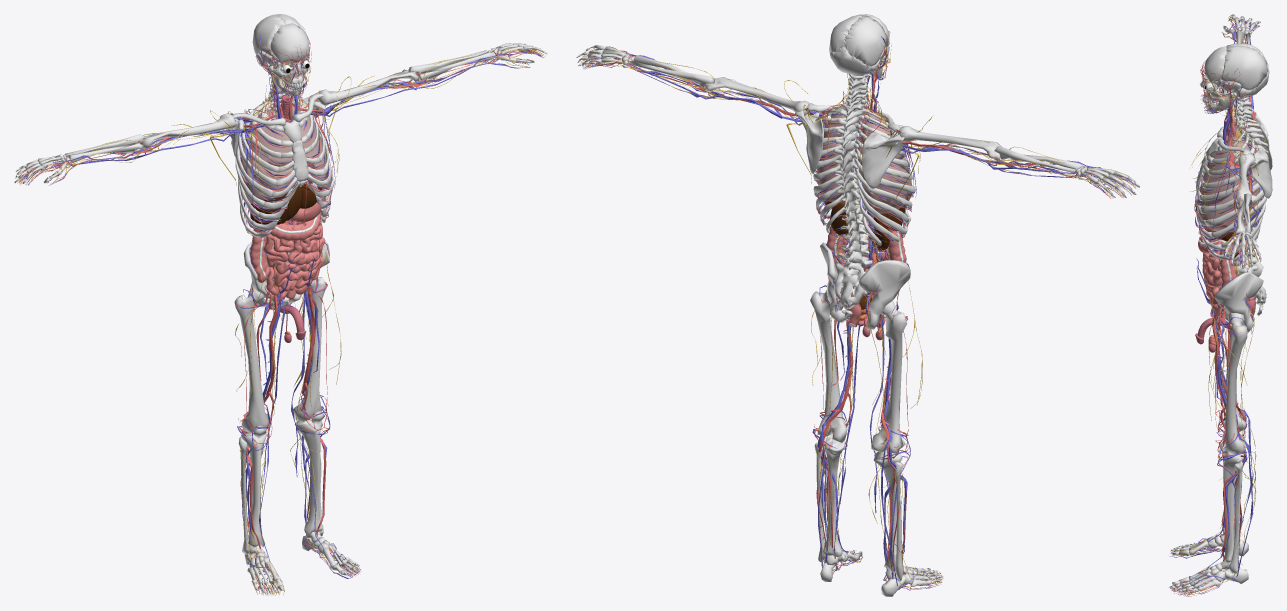
File: anatomi_tengkorak_organ.glb
3 views of the same model, side by side, from view 1: azimuth 30°, elevation 25°; view 2: azimuth 150°, elevation 25°; view 3: azimuth 270°, elevation 25° (orthographic). The views are drawn at different scales.
Visible parts, largest first — view 1: Cabeza, Venas_Lowpoly, Arterias_LowPoly, Oesophagus_Generated_Mesh_From_X3D.001, Medulla_oblongata.l_grp1.001, Exterior Pulmones; view 2: Cabeza, Venas_Lowpoly, Arterias_LowPoly, Medulla_oblongata.l_grp1.001, Exterior Pulmones, Oesophagus_Generated_Mesh_From_X3D.001, Ureter.l_grp1.001; view 3: Cabeza, Venas_Lowpoly, Arterias_LowPoly, Medulla_oblongata.l_grp1.001, Exterior Pulmones, Oesophagus_Generated_Mesh_From_X3D.001, Ductus_deferens.l_BezierCurve.001.
Boxes of the visible parts, left/top/right/bottom form: Cabeza: left=14, top=14, right=547, bottom=593; Venas_Lowpoly: left=19, top=26, right=542, bottom=595; Arterias_LowPoly: left=19, top=40, right=543, bottom=593; Oesophagus_Generated_Mesh_From_X3D.001: left=249, top=95, right=325, bottom=300; Medulla_oblongata.l_grp1.001: left=17, top=31, right=545, bottom=595; Exterior Pulmones: left=240, top=105, right=332, bottom=203; Cabeza: left=576, top=14, right=1139, bottom=596; Venas_Lowpoly: left=582, top=36, right=1135, bottom=590; Arterias_LowPoly: left=583, top=31, right=1136, bottom=588; Medulla_oblongata.l_grp1.001: left=581, top=42, right=1135, bottom=586; Exterior Pulmones: left=817, top=109, right=912, bottom=213; Oesophagus_Generated_Mesh_From_X3D.001: left=827, top=107, right=906, bottom=327; Ureter.l_grp1.001: left=830, top=202, right=889, bottom=314; Cabeza: left=1171, top=14, right=1272, bottom=593; Venas_Lowpoly: left=1169, top=19, right=1261, bottom=596; Arterias_LowPoly: left=1170, top=18, right=1264, bottom=595; Medulla_oblongata.l_grp1.001: left=1171, top=16, right=1265, bottom=596; Exterior Pulmones: left=1197, top=127, right=1259, bottom=232; Oesophagus_Generated_Mesh_From_X3D.001: left=1196, top=118, right=1255, bottom=322; Ductus_deferens.l_BezierCurve.001: left=1195, top=309, right=1232, bottom=352.
Size of the model in its own units: 1.87 by 1.83 by 0.3279.
